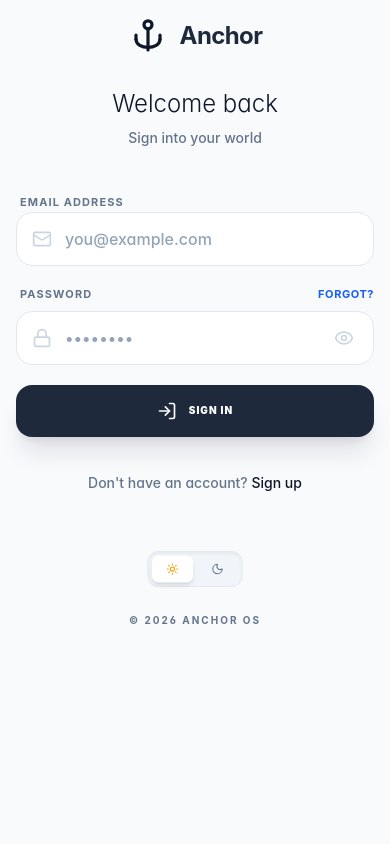
Test: AuthView › validates empty fields on submit
Click the button "Sign In" at (195, 410), box [16,384,374,436]
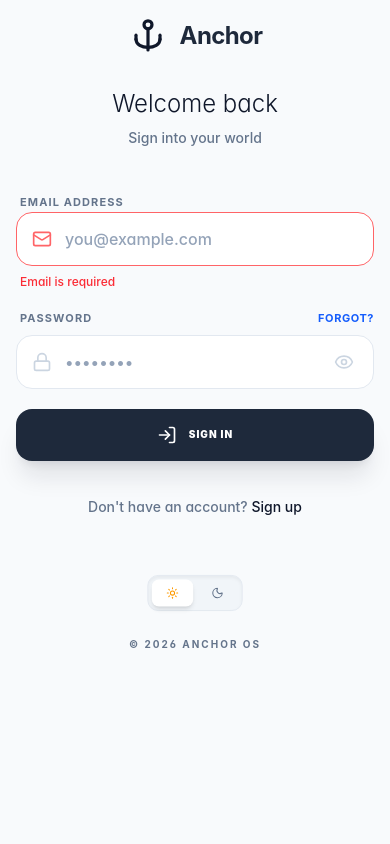
Now the text "Email is required" is shown, box [20,274,115,289]
